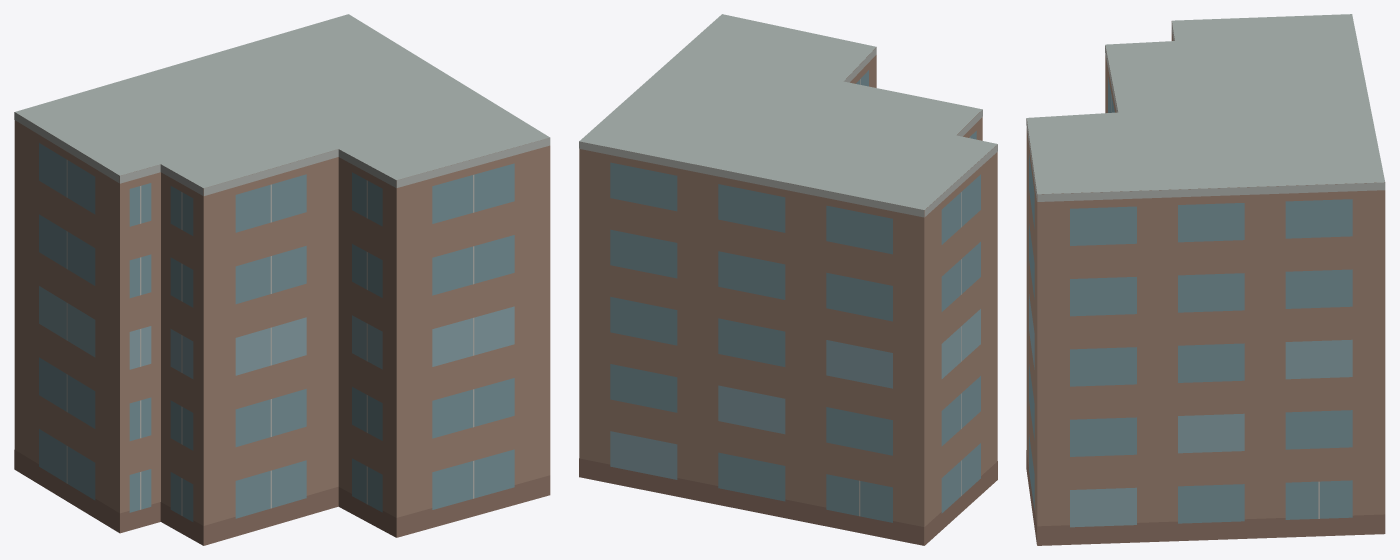
The model's file is survey-upis-32610583.glb.
The picture shows the model from 3 angles, left to right: view 1: azimuth 30°, elevation 25°; view 2: azimuth 150°, elevation 25°; view 3: azimuth 270°, elevation 25°; orthographic projection. The views are drawn at different scales.
Visible parts, largest first — view 1: survey-upis-32610583.tmp; view 2: survey-upis-32610583.tmp; view 3: survey-upis-32610583.tmp.
Part boxes in pixels (x1=…): survey-upis-32610583.tmp: x1=14, y1=14, x2=550, y2=545; survey-upis-32610583.tmp: x1=579, y1=14, x2=997, y2=545; survey-upis-32610583.tmp: x1=1026, y1=14, x2=1385, y2=545.
Size of the model in its own units: 12.1 by 11 by 10.18.
